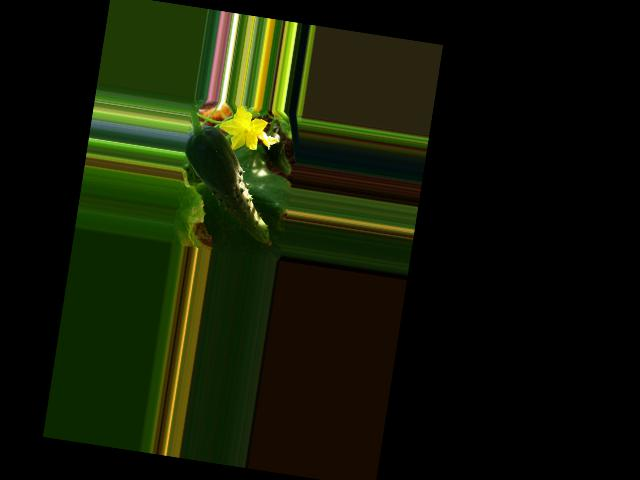cucumber: (172, 122, 288, 247)
